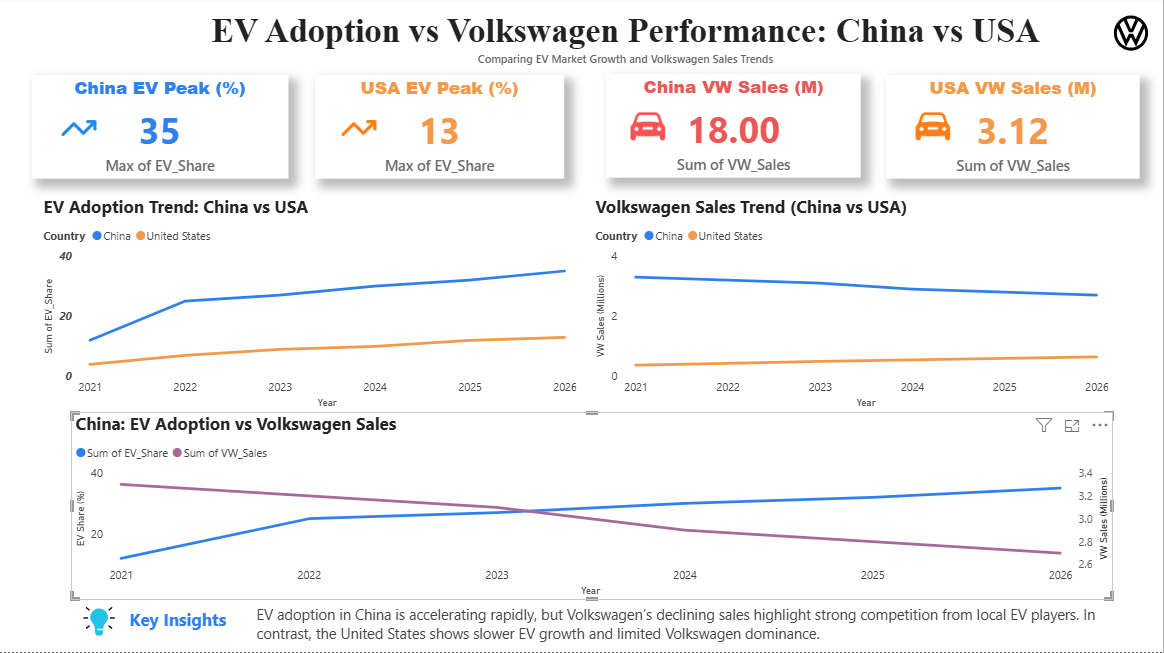

Layout of this report page (visuals, bound fields, positions):
{"tool":"powerbi","page":{"name":"Page 1","canvas":[1280,720],"ordinal":0},"visuals":[{"type":"lineChart","title":"EV Adoption Trend: China vs USA","fields":{"Category":["vw_ev_cleaned.Year"],"Series":["vw_ev_cleaned.Country"],"Y":["Sum(vw_ev_cleaned.EV_Share)"]},"box":[44,217.7,596,238.6],"z":0},{"type":"lineChart","title":"Volkswagen Sales Trend (China vs USA)","fields":{"Category":["vw_ev_cleaned.Year"],"Y":["Sum(vw_ev_cleaned.VW_Sales)"],"Series":["vw_ev_cleaned.Country"]},"box":[651,217.7,574,238.6],"z":1000},{"type":"lineChart","title":"China: EV Adoption vs Volkswagen Sales","fields":{"Category":["vw_ev_cleaned.Year"],"Y":["Sum(vw_ev_cleaned.EV_Share)"],"Y2":["Sum(vw_ev_cleaned.VW_Sales)"]},"box":[79.2,456.4,1145.8,206.7],"z":2000},{"type":"card","title":"China EV Peak (%)","fields":{"Values":["Max(vw_ev_cleaned.EV_Share)"]},"box":[36.3,85.8,281.5,114.4],"z":3000},{"type":"textbox","box":[177,11,1023.8,74.8],"z":4000},{"type":"card","title":"USA EV Peak (%)","fields":{"Values":["Max(vw_ev_cleaned.EV_Share)"]},"box":[347.5,85.8,273.8,114.4],"z":5000},{"type":"card","title":"China VW Sales (M)","fields":{"Values":["Sum(vw_ev_cleaned.VW_Sales)"]},"box":[667.5,84.7,280.4,114.4],"z":6000},{"type":"card","title":"USA VW Sales (M)","fields":{"Values":["Sum(vw_ev_cleaned.VW_Sales)"]},"box":[975.4,85.8,279.3,114.4],"z":7000},{"type":"textbox","box":[278.1,663.5,956.5,56.5],"z":8000},{"type":"image","box":[66,123.2,44,41.8],"z":9000},{"type":"image","box":[373.9,123.2,44,41.8],"z":10000},{"type":"image","box":[1004,121,46.2,44],"z":11000},{"type":"image","box":[689.5,121,48.4,44],"z":12000},{"type":"image","box":[1217.3,18.7,55,41.8],"z":13000},{"type":"image","box":[89.1,668.6,41.8,36.3],"z":14000},{"type":"textbox","box":[138.5,666.9,123.5,41.5],"z":15000}]}

Visuals, with their boxes in screenshot pixels (x1, y1, x2, y2), scaled from the page's 1280x720 canvas onto the 1164x653 screenshot:
"EV Adoption Trend: China vs USA" lineChart: select_region(40, 197, 582, 414)
"Volkswagen Sales Trend (China vs USA)" lineChart: select_region(592, 197, 1114, 414)
"China: EV Adoption vs Volkswagen Sales" lineChart: select_region(72, 414, 1114, 601)
"China EV Peak (%)" card: select_region(33, 78, 289, 182)
textbox: select_region(161, 10, 1092, 78)
"USA EV Peak (%)" card: select_region(316, 78, 565, 182)
"China VW Sales (M)" card: select_region(607, 77, 862, 181)
"USA VW Sales (M)" card: select_region(887, 78, 1141, 182)
textbox: select_region(253, 602, 1123, 652)
image: select_region(60, 112, 100, 150)
image: select_region(340, 112, 380, 150)
image: select_region(913, 110, 955, 150)
image: select_region(627, 110, 671, 150)
image: select_region(1107, 17, 1157, 55)
image: select_region(81, 606, 119, 639)
textbox: select_region(126, 605, 238, 642)
